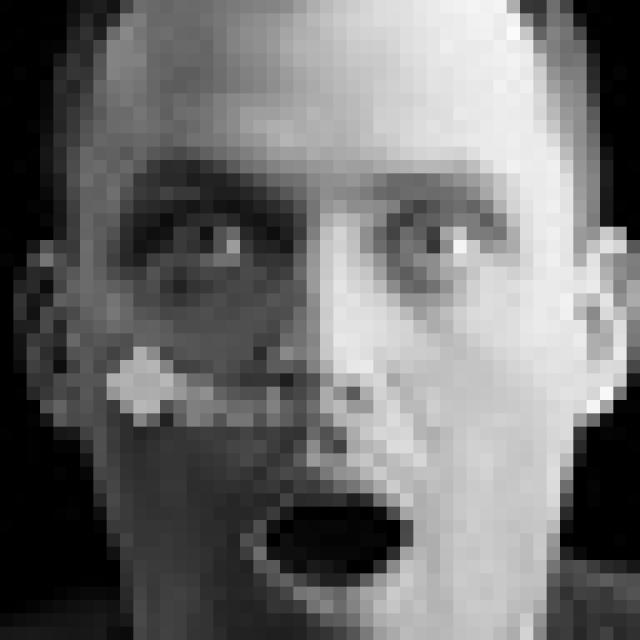surprise: (116, 144, 530, 629)
